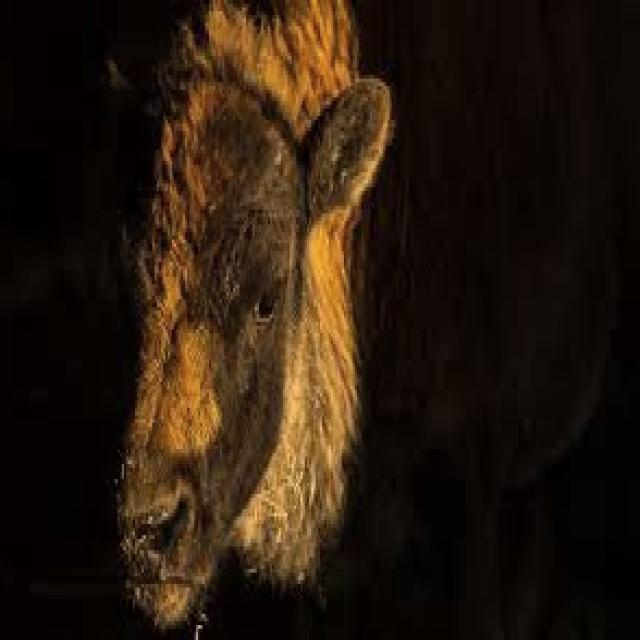bison: (120, 0, 392, 625)
